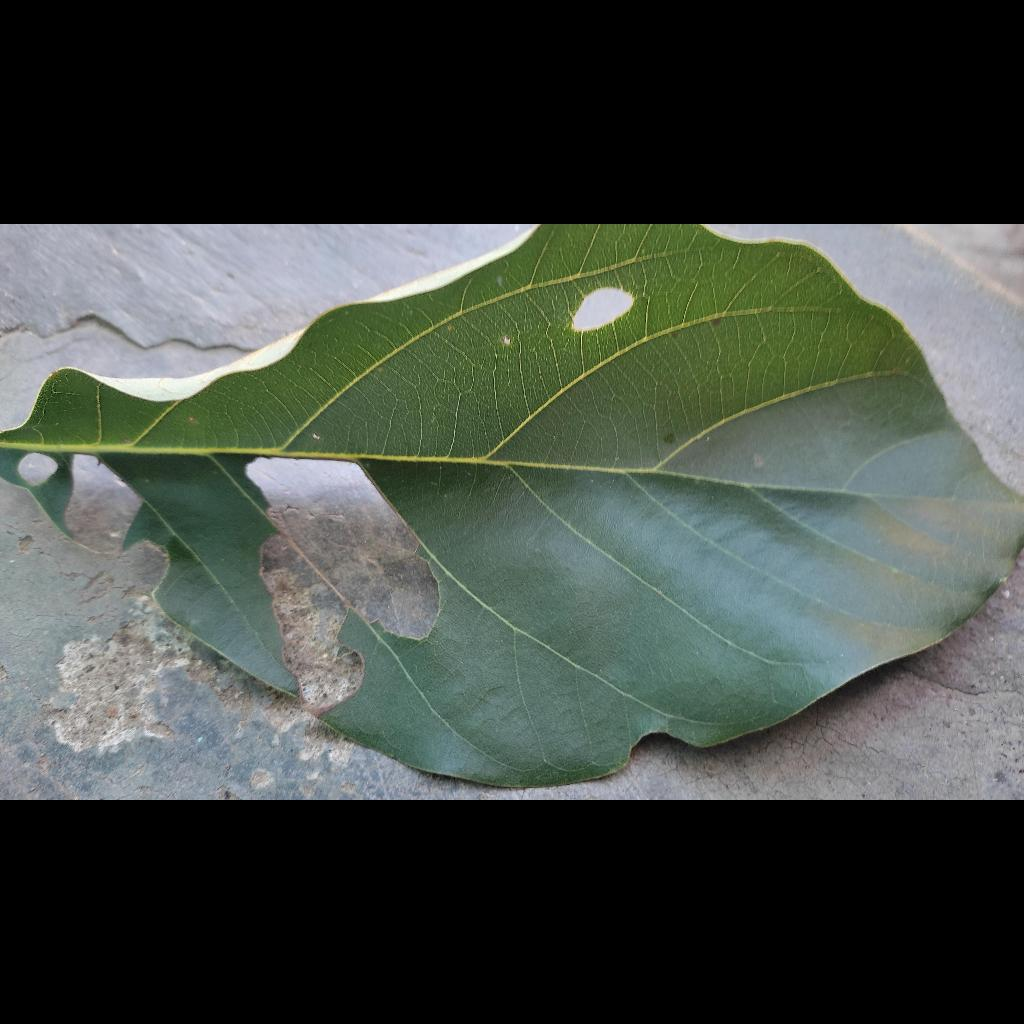Pest Infested: (0, 224, 1024, 786)
